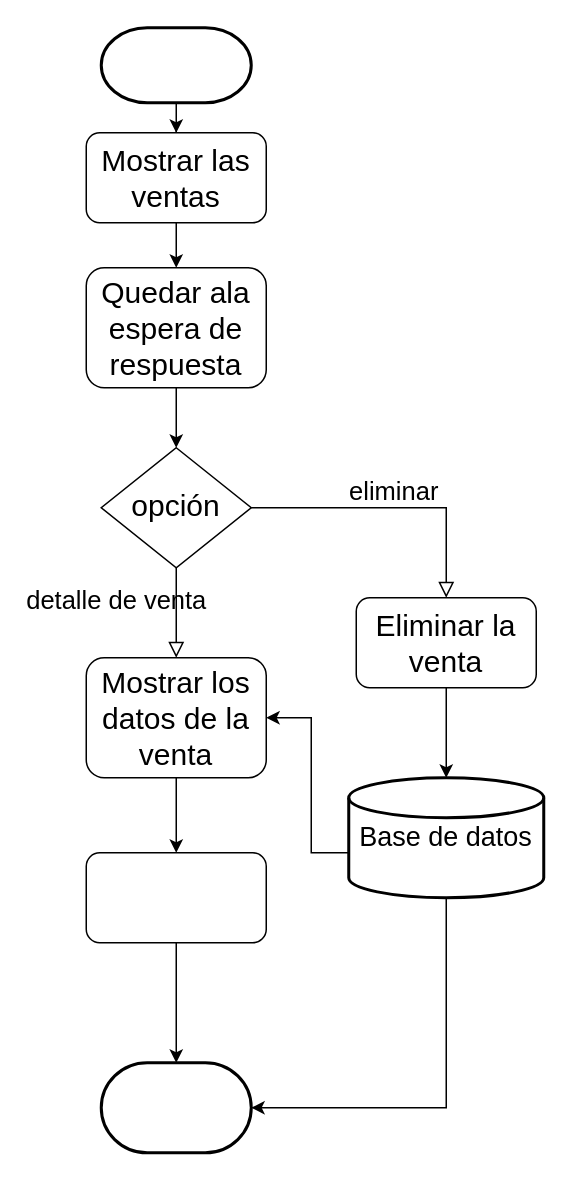
This 570x1179 diagram has some shape labels left out. Here are the shapes that lost their labels. From the top down, the centre of each, then its label:
At point 175,65: "Inicio".
At point 175,897: "imprimir reporte".
At point 175,1107: "Fin".
